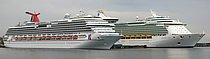Ship: (3, 8, 122, 52), (109, 10, 209, 50)
